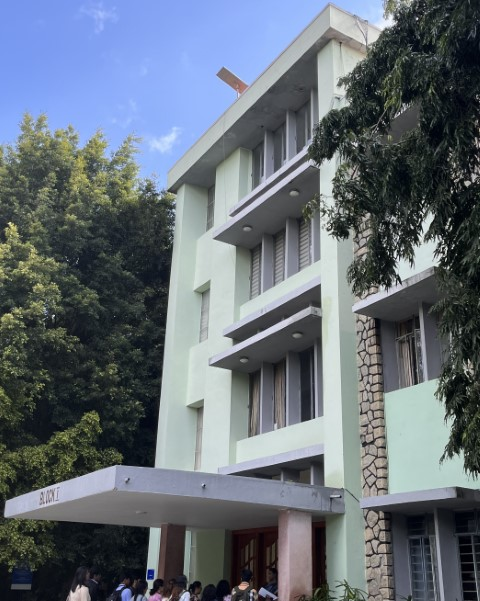Block 1: (155, 8, 448, 601)
